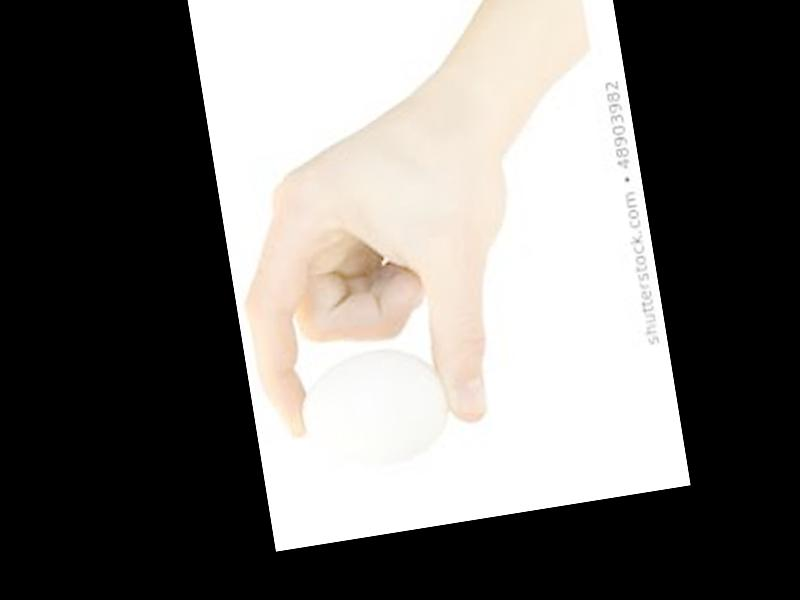Eggs: (294, 339, 456, 473)
